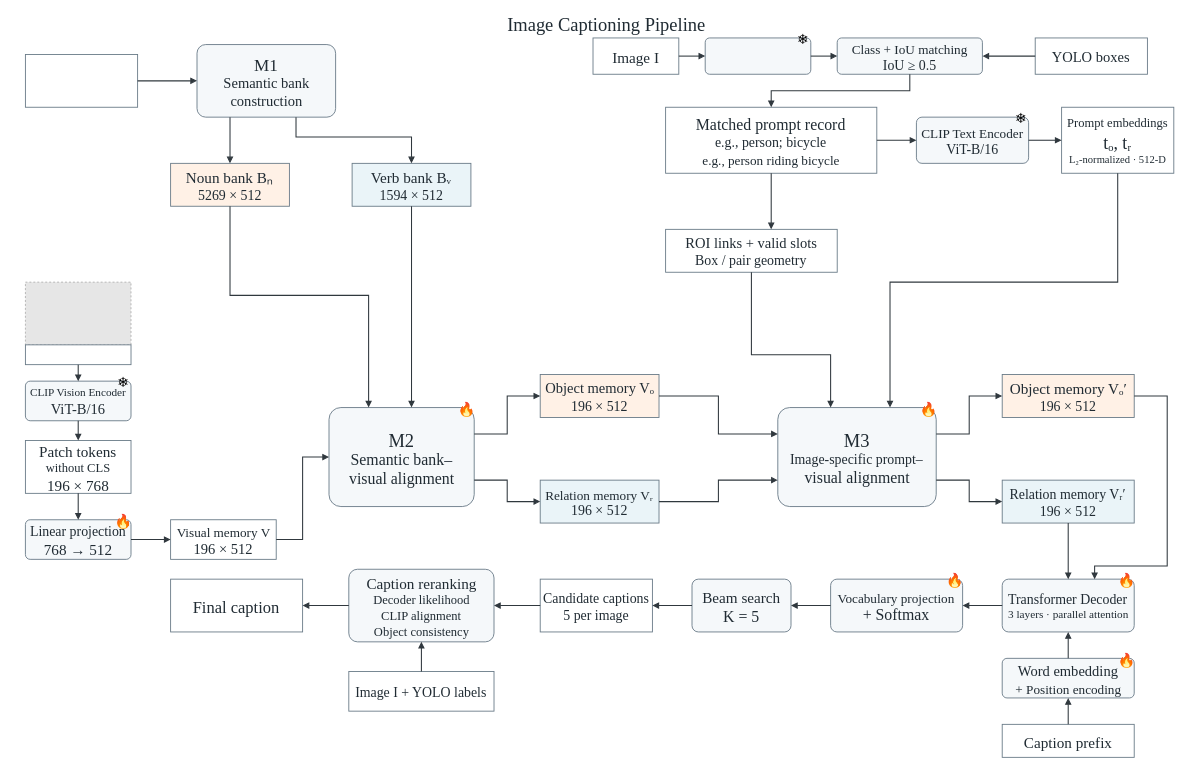
The diagram is 1193 pixels wide and 769 high, and some of its shapes have lost their labels. Grey dashed boxes stand in for pictures. Each missing label, with the centre of its shape:
"Input image I" goes at [78,354].
"TRAIN captions" goes at [81,80].
"UPT detector" goes at [757,55].
